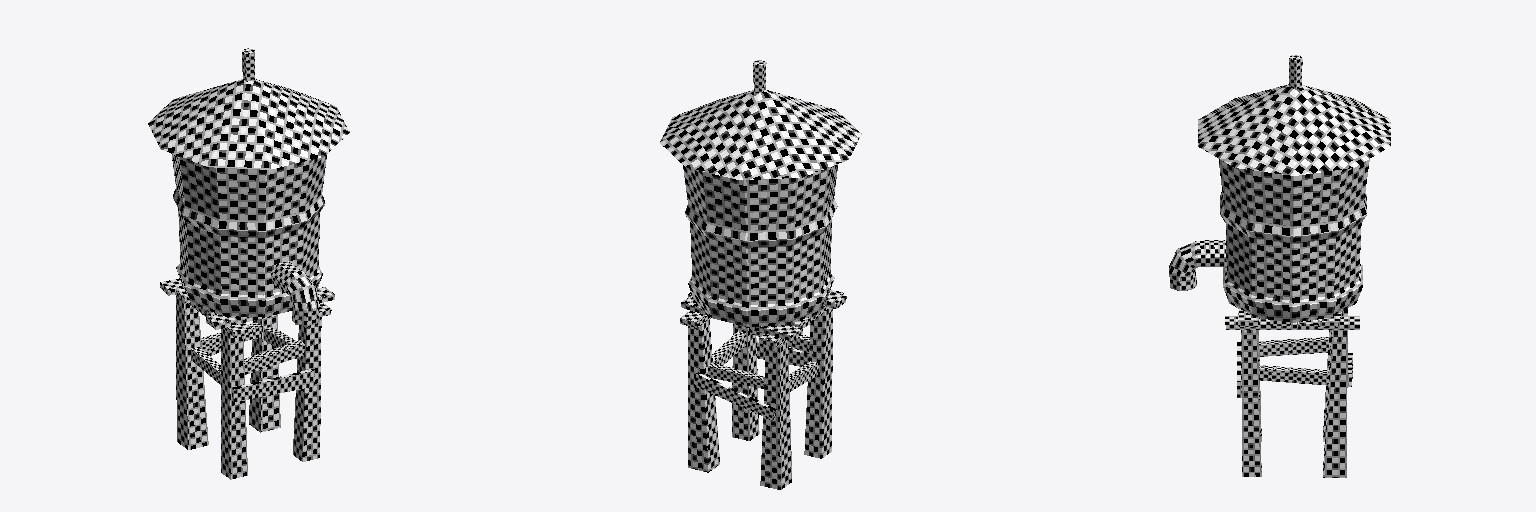
3 views of the same model, side by side, from view 1: azimuth 30°, elevation 25°; view 2: azimuth 150°, elevation 25°; view 3: azimuth 270°, elevation 25° (orthographic).
Visible parts, largest first — view 1: Contenedor_Agua; view 2: Contenedor_Agua; view 3: Contenedor_Agua.
Boxes of the visible parts, box(x1,y1,x2,y2) form: Contenedor_Agua: box(148, 48, 349, 479); Contenedor_Agua: box(660, 60, 861, 489); Contenedor_Agua: box(1169, 55, 1390, 477).
Size of the model in its own units: 32.05 by 69.16 by 35.
Materials: 1 (1 with a texture image).